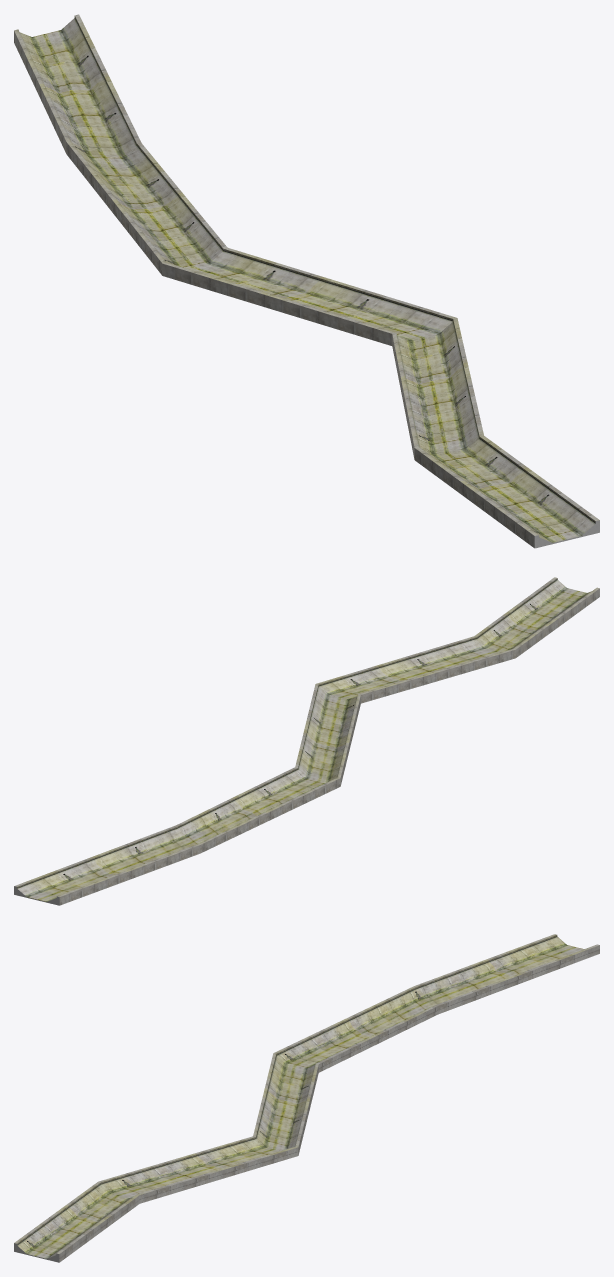
File: water_canalroad2.FBX
The picture shows the model from 3 angles, top to bottom: view 1: azimuth 30°, elevation 25°; view 2: azimuth 150°, elevation 25°; view 3: azimuth 330°, elevation 25°; orthographic projection. The views are drawn at different scales.
Parts seen in each view (by area): view 1: water_canalroad001; view 2: water_canalroad001; view 3: water_canalroad001.
Part boxes in pixels (box(x1,y1,x2,y2)): water_canalroad001: box(14, 14, 599, 548); water_canalroad001: box(14, 577, 599, 905); water_canalroad001: box(14, 934, 599, 1262).
Size of the model in its own units: 2615 by 162 by 15236.
